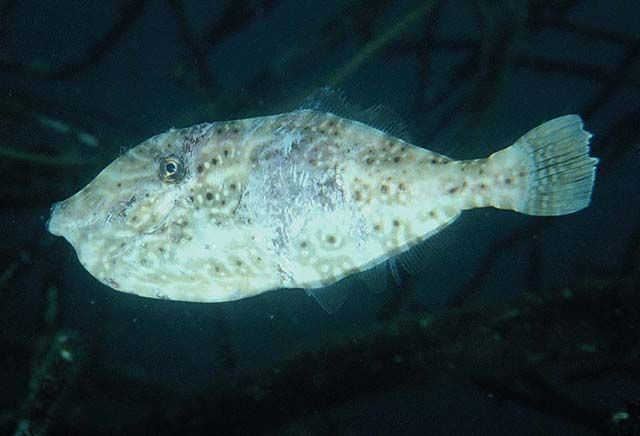fish: (46, 89, 599, 311)
